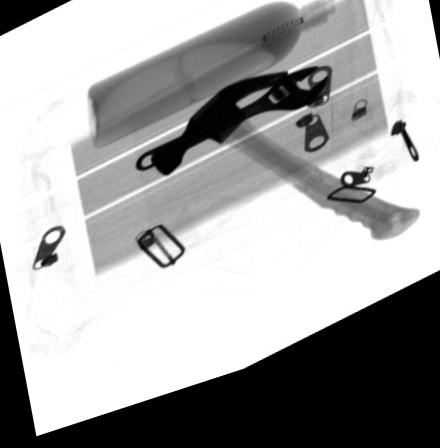Hammer: (149, 88, 420, 264)
Wrench: (134, 85, 330, 180)
